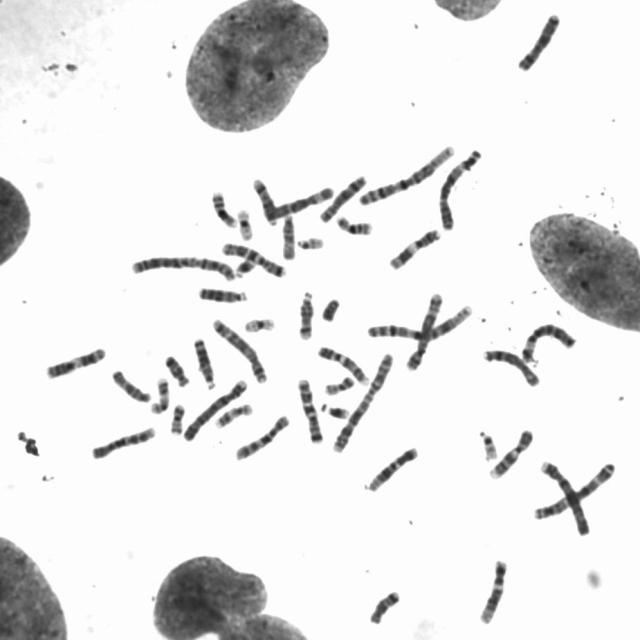A1: (355, 139, 460, 207), (365, 298, 476, 342)
A2: (328, 347, 398, 455), (127, 248, 240, 282)
A3: (530, 456, 619, 522), (434, 143, 486, 231)
B4: (179, 373, 251, 443), (536, 454, 594, 538)
B5: (208, 312, 272, 384), (403, 286, 446, 372)
C10: (231, 409, 293, 462), (87, 420, 159, 461)
C11: (385, 222, 445, 272), (42, 341, 110, 380)
C12: (363, 441, 422, 493), (476, 554, 511, 626)
C6: (518, 316, 579, 364), (264, 181, 337, 221)
C7: (217, 236, 289, 279), (294, 372, 328, 446)
C8: (479, 342, 544, 388), (316, 169, 370, 224)
C9: (485, 422, 537, 480), (314, 340, 372, 386)
D13: (190, 332, 220, 390), (195, 280, 251, 305)
D14: (248, 172, 281, 227), (295, 285, 318, 342)
D15: (108, 364, 154, 404), (278, 209, 300, 261)
E16: (208, 184, 240, 228), (332, 210, 376, 236)
E17: (211, 398, 257, 430), (147, 372, 172, 416)
E18: (366, 584, 403, 626), (161, 349, 193, 388)
F19: (233, 203, 257, 241), (241, 311, 279, 334)
F20: (321, 369, 358, 396), (167, 399, 188, 436)
G21: (319, 398, 354, 420), (231, 252, 259, 278)
G22: (475, 424, 502, 462), (294, 231, 328, 251)
X: (513, 7, 564, 72)
Y: (318, 292, 343, 323)
